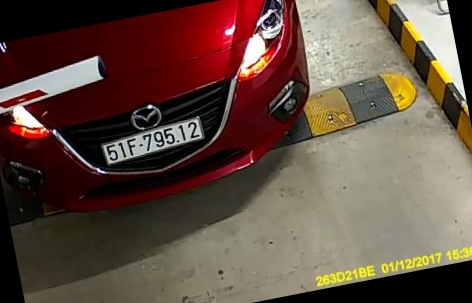plate: (97, 115, 207, 169)
